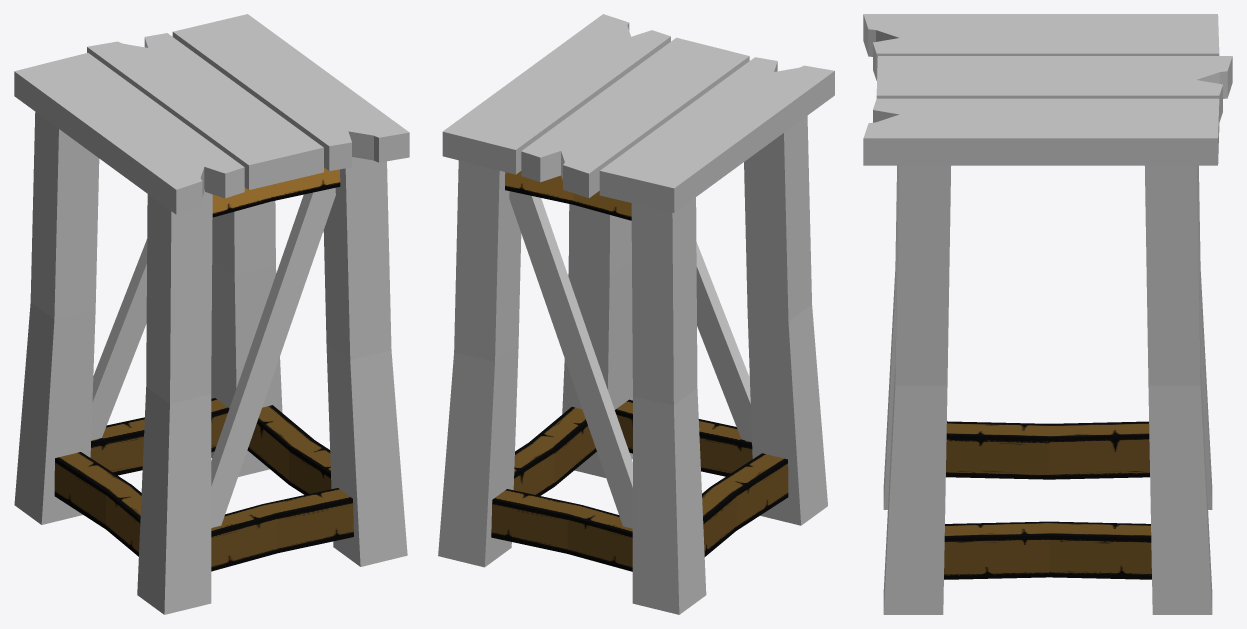
File: tower_a.fbx
3 views of the same model, side by side, from view 1: azimuth 30°, elevation 25°; view 2: azimuth 150°, elevation 25°; view 3: azimuth 270°, elevation 25° (orthographic). The views are drawn at different scales.
Parts seen in each view (by area): view 1: tower_a; view 2: tower_a; view 3: tower_a.
Part boxes in pixels (x1,y1,x2,y2): tower_a: (14, 14, 409, 614); tower_a: (438, 14, 834, 614); tower_a: (863, 14, 1232, 614).
Bounding box in the file's own units: 212 × 360 × 254.
